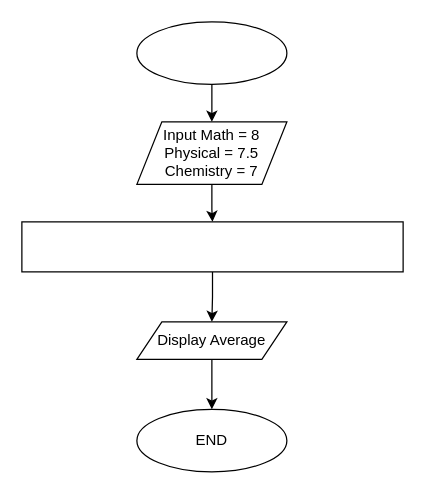
The diagram is 425 pixels wide and 494 high, and some of its shapes have lost their labels. Here are the shapes that lost their labels. From the top down, the centre of each, then its label:
[211,52]: BEGIN
[212,246]: Average = ( Math + Physics + Chemistry) / 3
